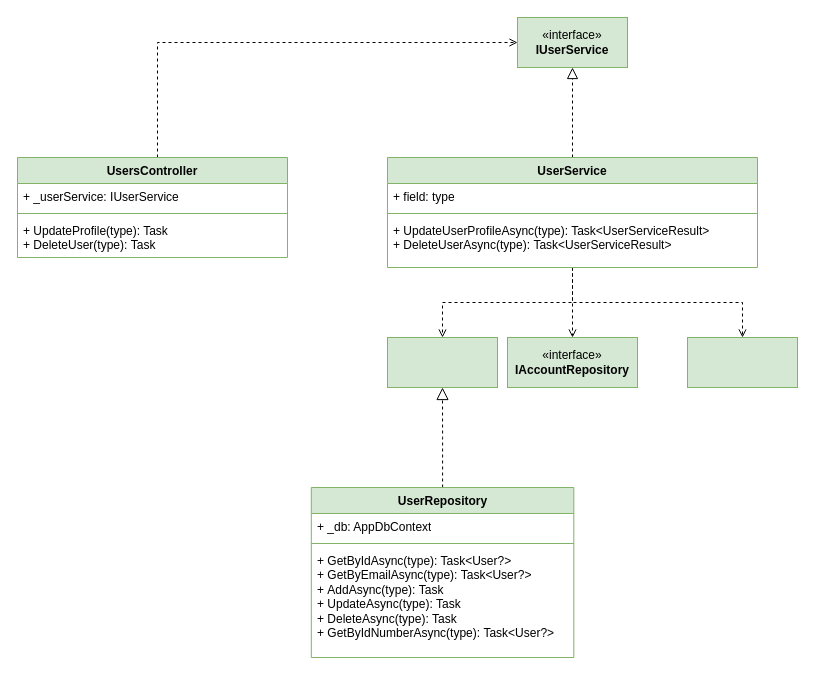
Some shapes in this 815 by 678 pixel diagram are drawn without their labels. Here are the shapes that lost their labels. From the top down, the centre of each, then its label:
At (x=442, y=362): "«interface» IUserRepository".
At (x=742, y=362): "«interface» IPasswordHasher".
